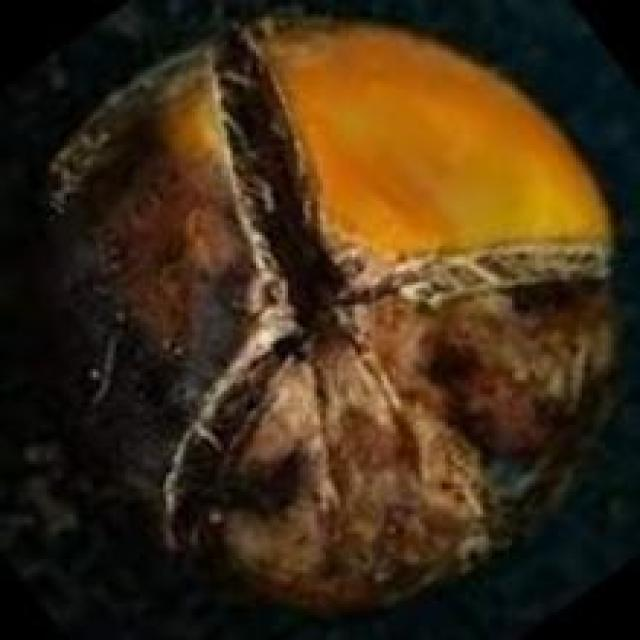damaged: (17, 17, 623, 620)
